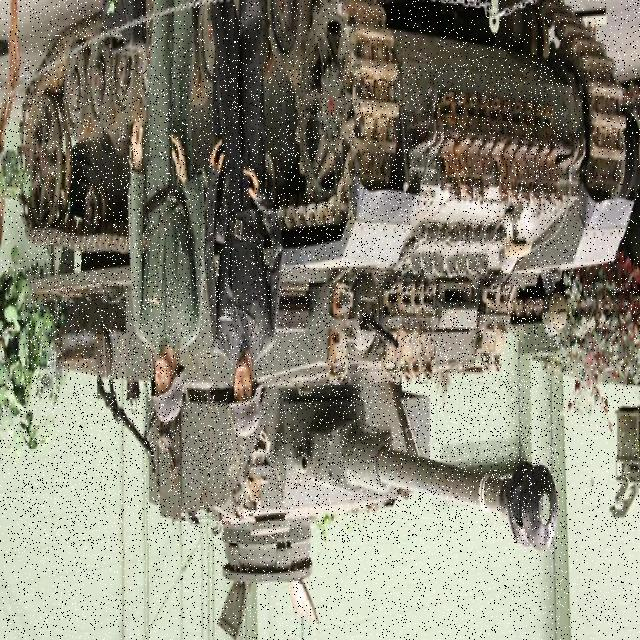MIL_MBT: (25, 65, 559, 542)
